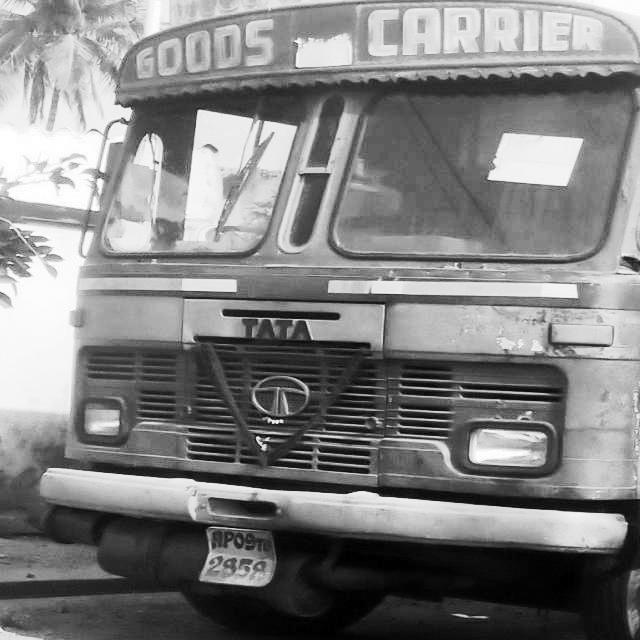HCV: (50, 4, 639, 640)
